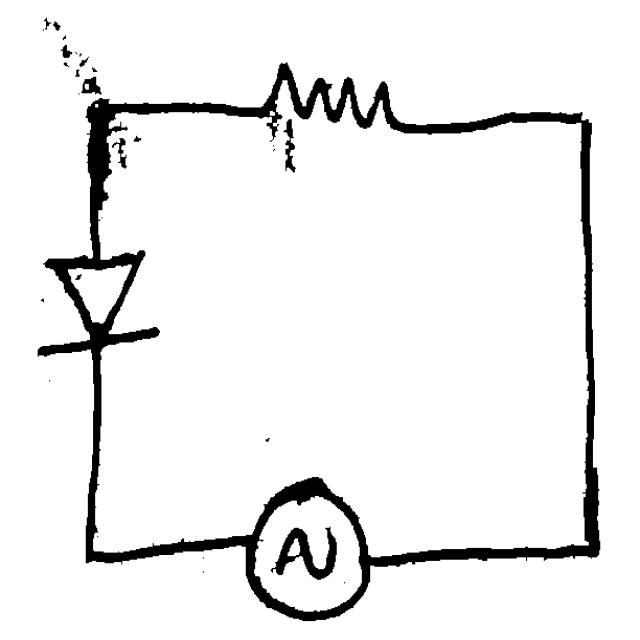ac: (239, 465, 381, 629)
diode: (21, 240, 183, 378)
resistor: (243, 61, 422, 152)
